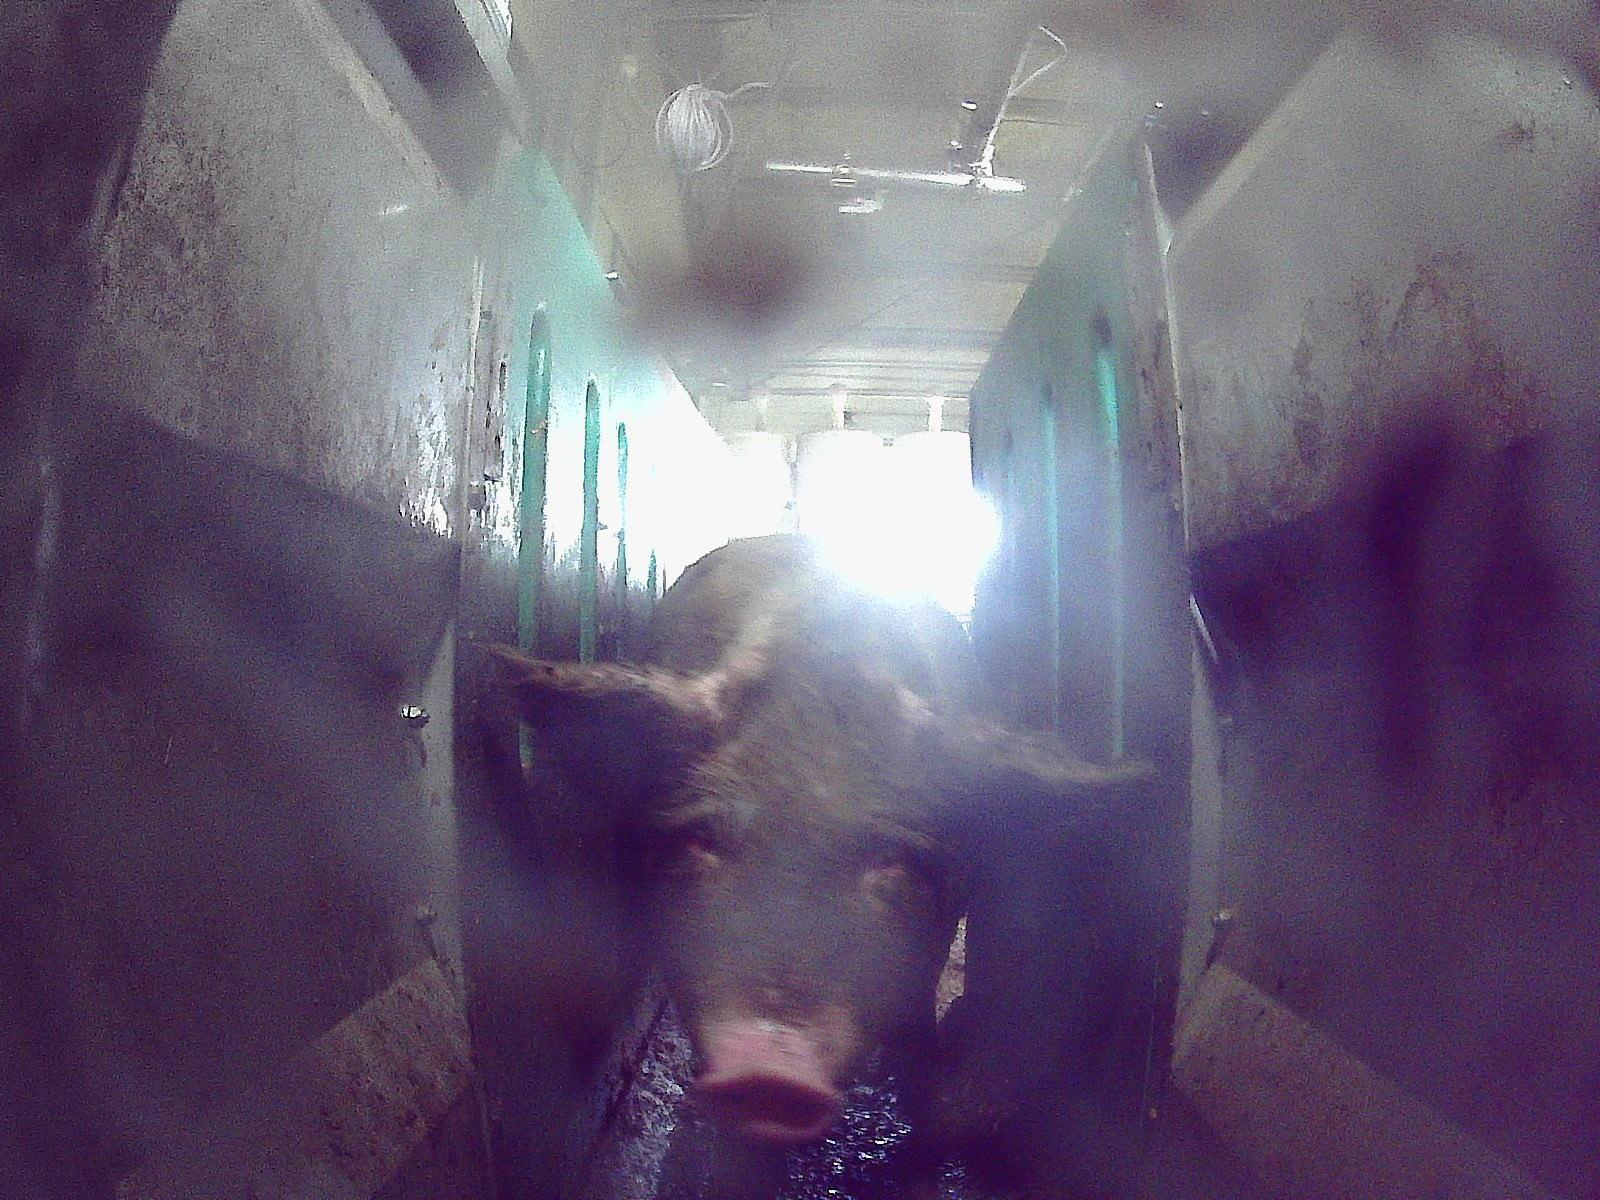Face: (629, 670, 969, 1140)
